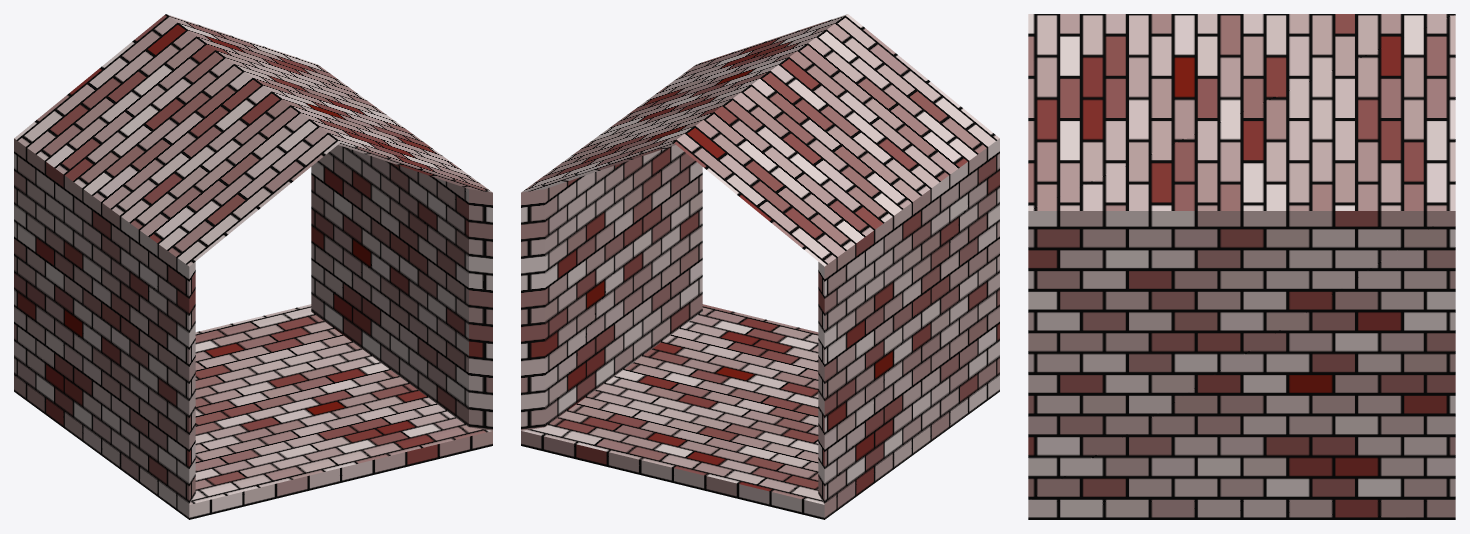
The model's file is hallway.glb.
3 views of the same model, side by side, from view 1: azimuth 30°, elevation 25°; view 2: azimuth 150°, elevation 25°; view 3: azimuth 270°, elevation 25° (orthographic). The views are drawn at different scales.
Parts seen in each view (by area): view 1: baked; view 2: baked; view 3: baked.
Boxes of the visible parts, x1=… form: baked: x1=14, y1=14, x2=492, y2=519; baked: x1=521, y1=14, x2=999, y2=519; baked: x1=1028, y1=14, x2=1455, y2=519.
Bounding box in the file's own units: 4 × 4.29 × 4.
Materials: 1 (1 with a texture image).
